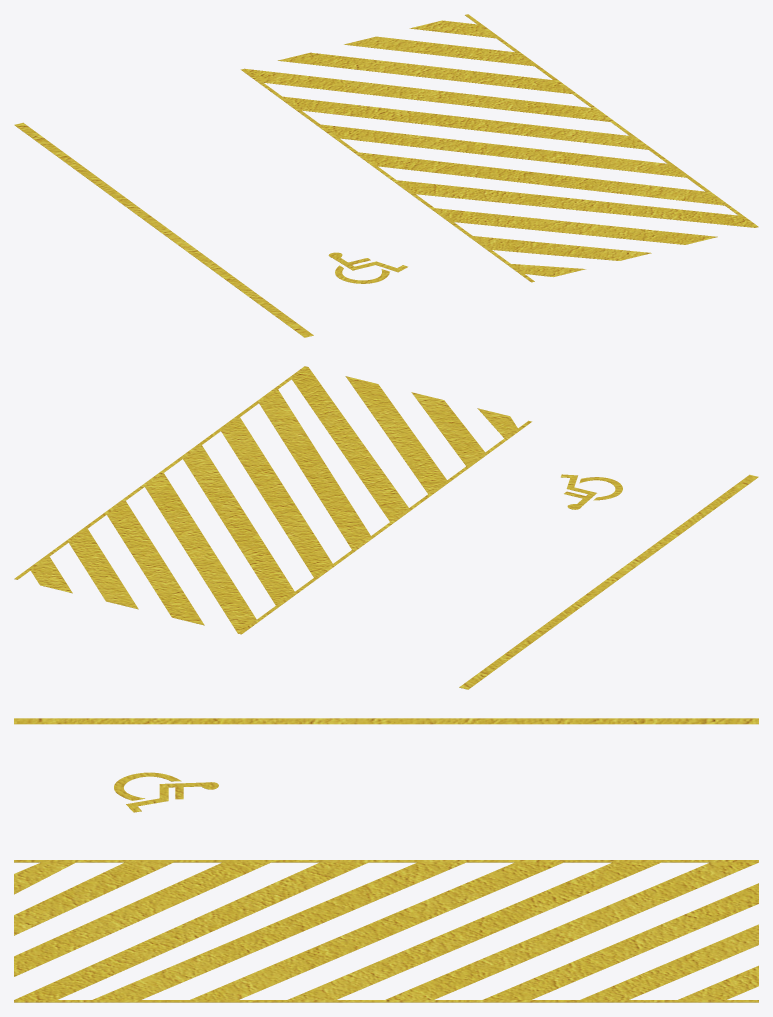
Rendered from ParkingLine_004.fbx.
The picture shows the model from 3 angles, top to bottom: view 1: azimuth 30°, elevation 25°; view 2: azimuth 150°, elevation 25°; view 3: azimuth 270°, elevation 25°; orthographic projection. The views are drawn at different scales.
Parts seen in each view (by area): view 1: ParkingLine_004; view 2: ParkingLine_004; view 3: ParkingLine_004.
Part boxes in pixels (bbox=[...]): ParkingLine_004: bbox=[14, 14, 758, 337]; ParkingLine_004: bbox=[14, 366, 758, 689]; ParkingLine_004: bbox=[14, 718, 758, 1002].
Bounding box in the file's own units: 449 × 0.0923 × 498.
1 material, 1 textured.
